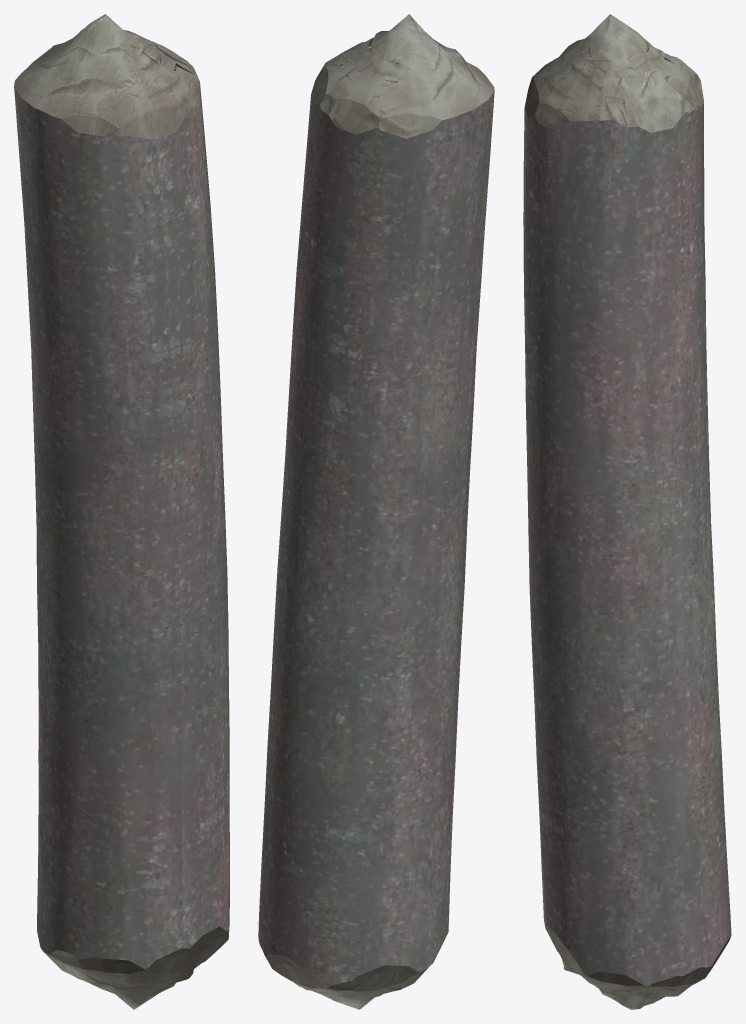
The picture shows the model from 3 angles, left to right: view 1: azimuth 30°, elevation 25°; view 2: azimuth 150°, elevation 25°; view 3: azimuth 270°, elevation 25°; orthographic projection. The views are drawn at different scales.
Parts seen in each view (by area): view 1: SM_GF_Ash_Tree_01_quarter_03_LOD0; view 2: SM_GF_Ash_Tree_01_quarter_03_LOD0; view 3: SM_GF_Ash_Tree_01_quarter_03_LOD0.
Part boxes in pixels (left/top/right/bottom): SM_GF_Ash_Tree_01_quarter_03_LOD0: left=14, top=14, right=229, bottom=1009; SM_GF_Ash_Tree_01_quarter_03_LOD0: left=258, top=14, right=494, bottom=1009; SM_GF_Ash_Tree_01_quarter_03_LOD0: left=523, top=14, right=731, bottom=1009.
Size of the model in its own units: 0.5543 by 2.66 by 0.5135.
Materials: 1 (1 with a texture image).
